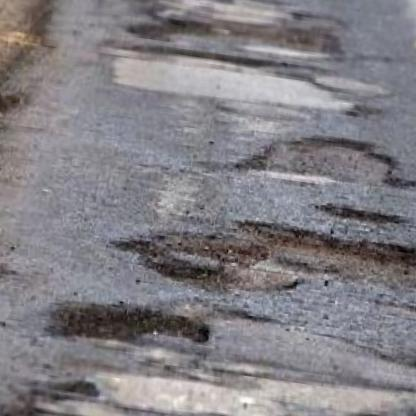pothole: (104, 197, 416, 325), (231, 118, 416, 205), (125, 0, 350, 70), (38, 291, 216, 364), (312, 197, 411, 229)
